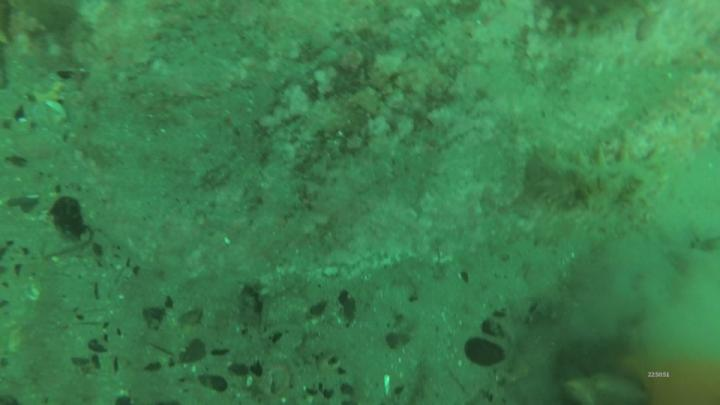holothurian: (532, 131, 671, 221), (535, 1, 663, 44)
